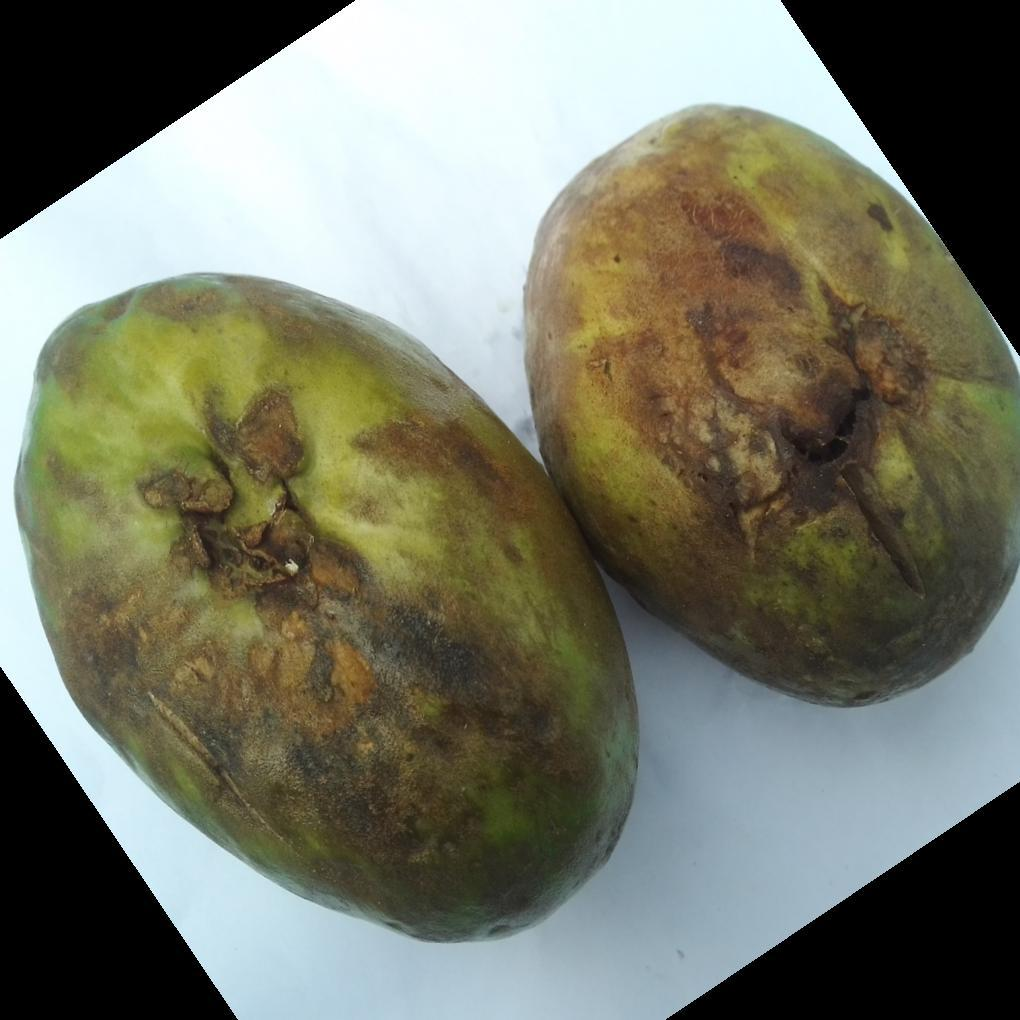FreshOrange: (11, 104, 1020, 948)
